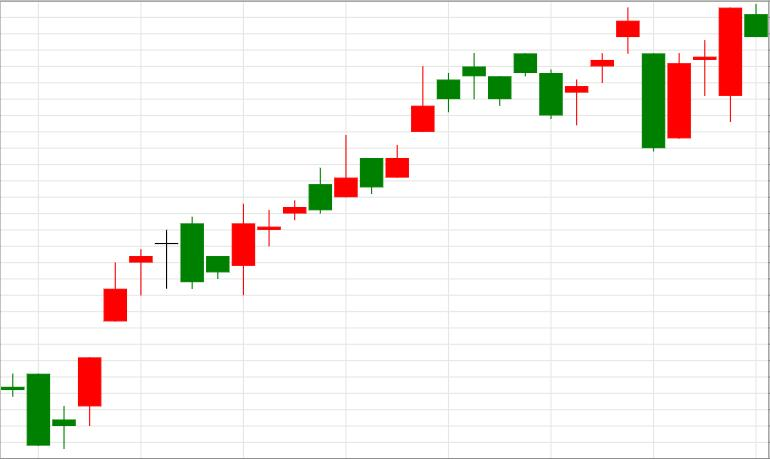shooting_star_fall: (232, 66, 435, 295)
